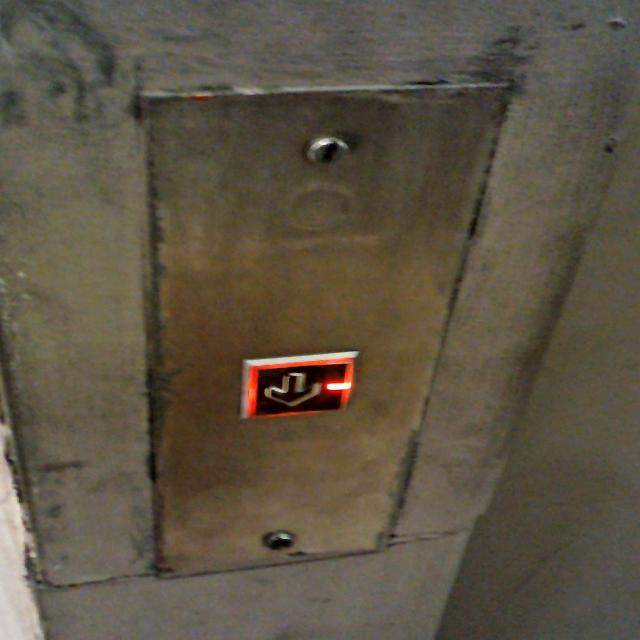down: (236, 347, 361, 426)
